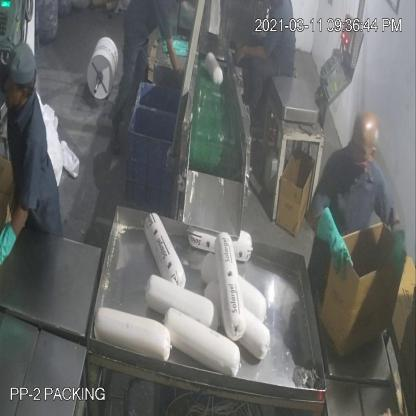glove: (316, 202, 353, 289), (389, 228, 412, 281)
no_glove: (164, 29, 196, 100), (230, 35, 272, 71)
